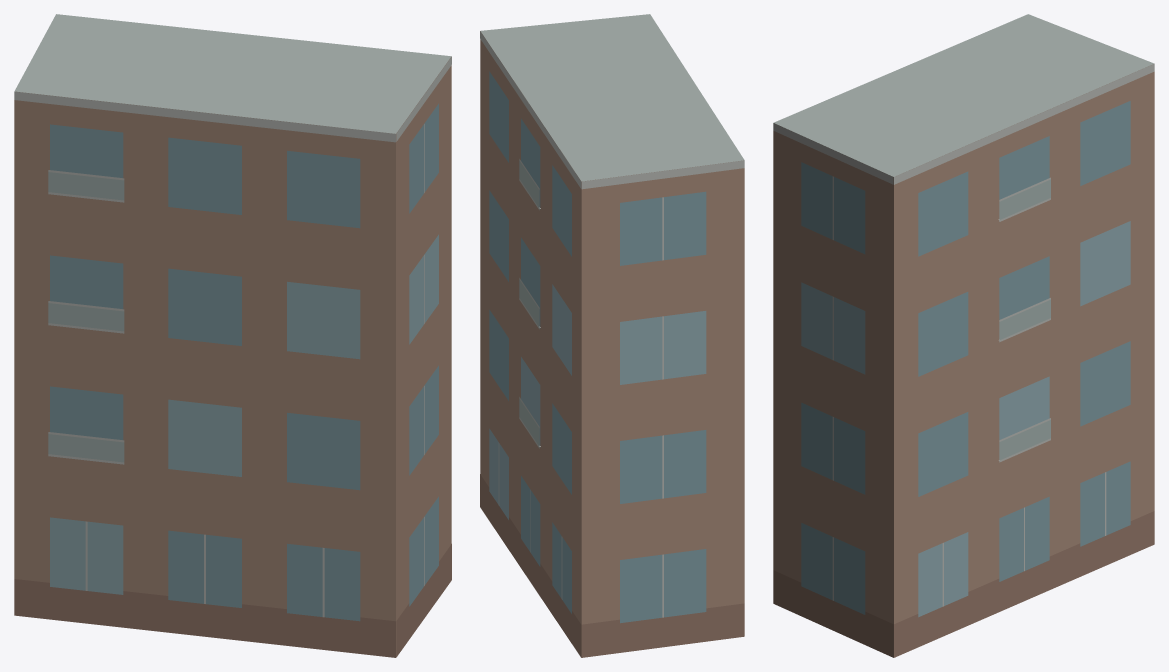
Rendered from survey-upis-32773101.glb.
3 views of the same model, side by side, from view 1: azimuth 30°, elevation 25°; view 2: azimuth 150°, elevation 25°; view 3: azimuth 270°, elevation 25° (orthographic). The views are drawn at different scales.
Parts seen in each view (by area): view 1: survey-upis-32773101.tmp; view 2: survey-upis-32773101.tmp; view 3: survey-upis-32773101.tmp.
Part boxes in pixels (x1=…): survey-upis-32773101.tmp: x1=14, y1=14, x2=451, y2=657; survey-upis-32773101.tmp: x1=480, y1=14, x2=744, y2=657; survey-upis-32773101.tmp: x1=773, y1=14, x2=1154, y2=657.
Bounding box in the file's own units: 10.84 × 14.9 × 10.71.
